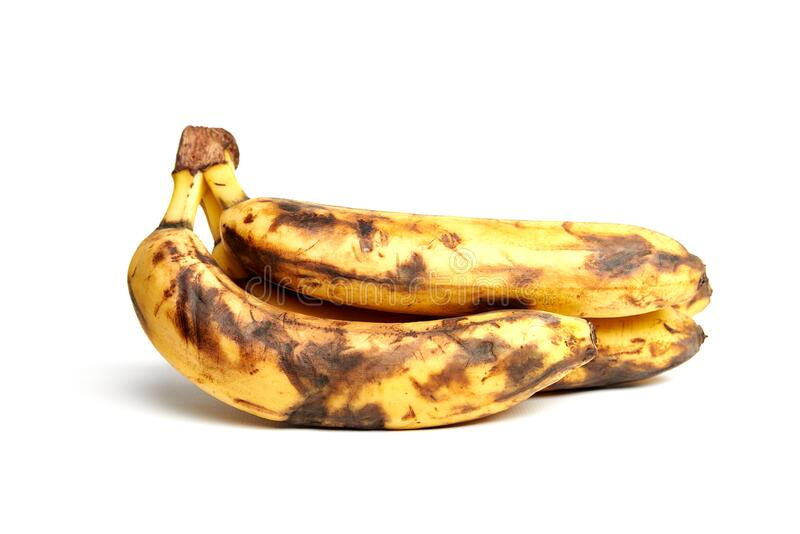damaged_banana: (166, 148, 720, 332), (121, 229, 580, 430)
